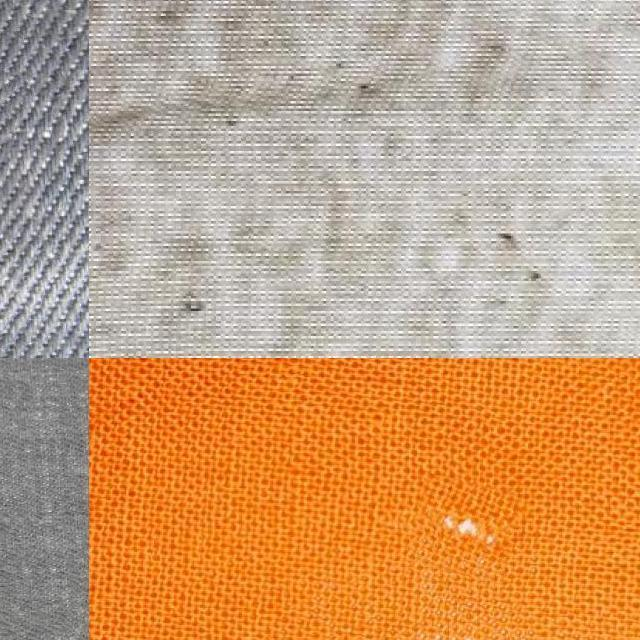other: (409, 477, 517, 579)
stains: (54, 358, 89, 640)
